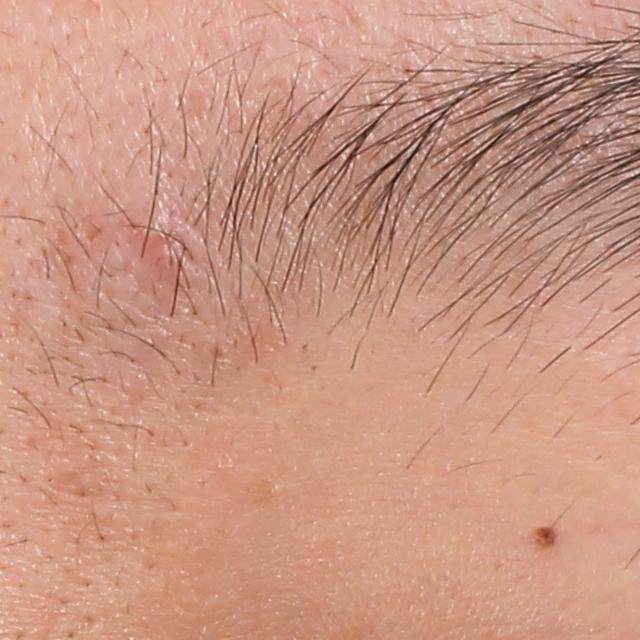nevus: (525, 519, 559, 554)
